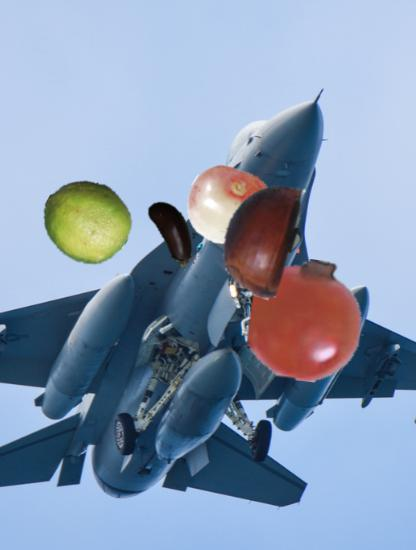Cherry: (186, 163, 271, 248)
Chestnut: (200, 176, 321, 297)
Eggplant: (137, 196, 210, 269)
Limes: (42, 176, 133, 267)
Redcurrant: (245, 259, 367, 381)
